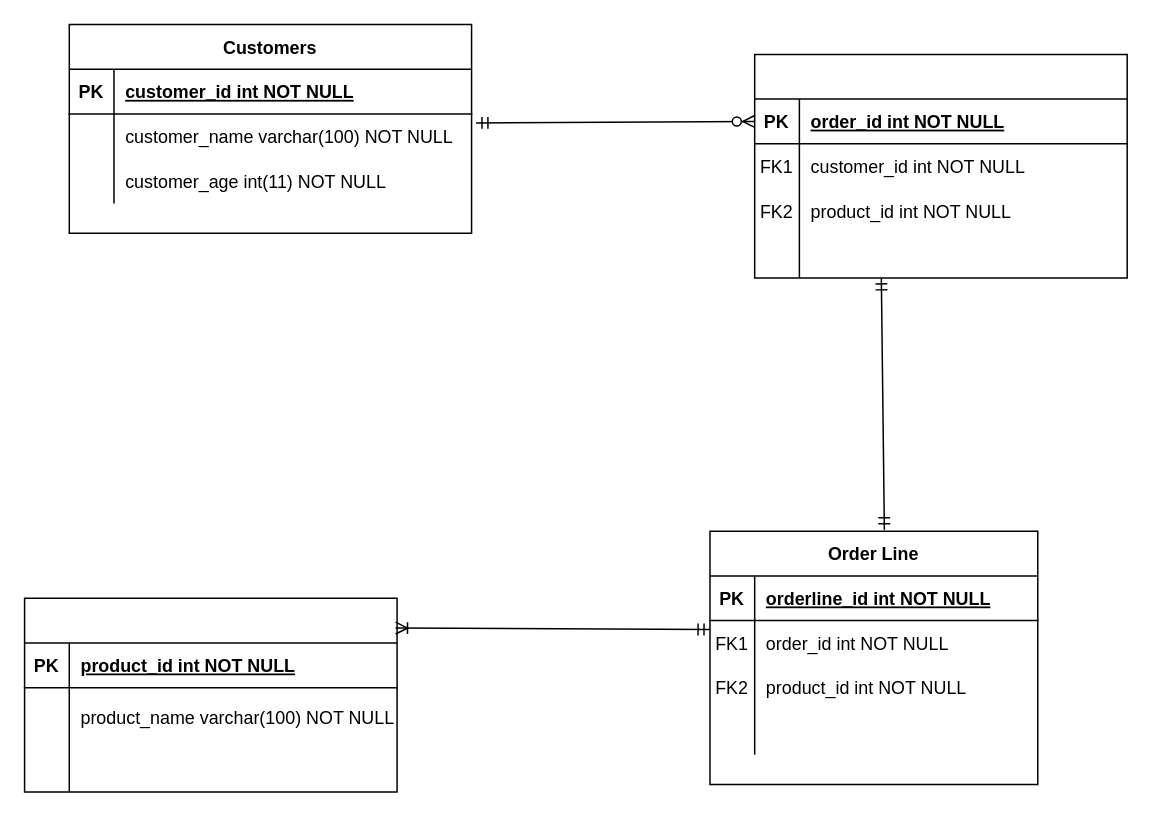
The diagram is 1152 pixels wide and 817 high, and some of its shapes have lost their labels. Each missing label, with the box of its shape:
Orders: (753, 53, 1127, 278)
Products: (23, 597, 397, 792)
